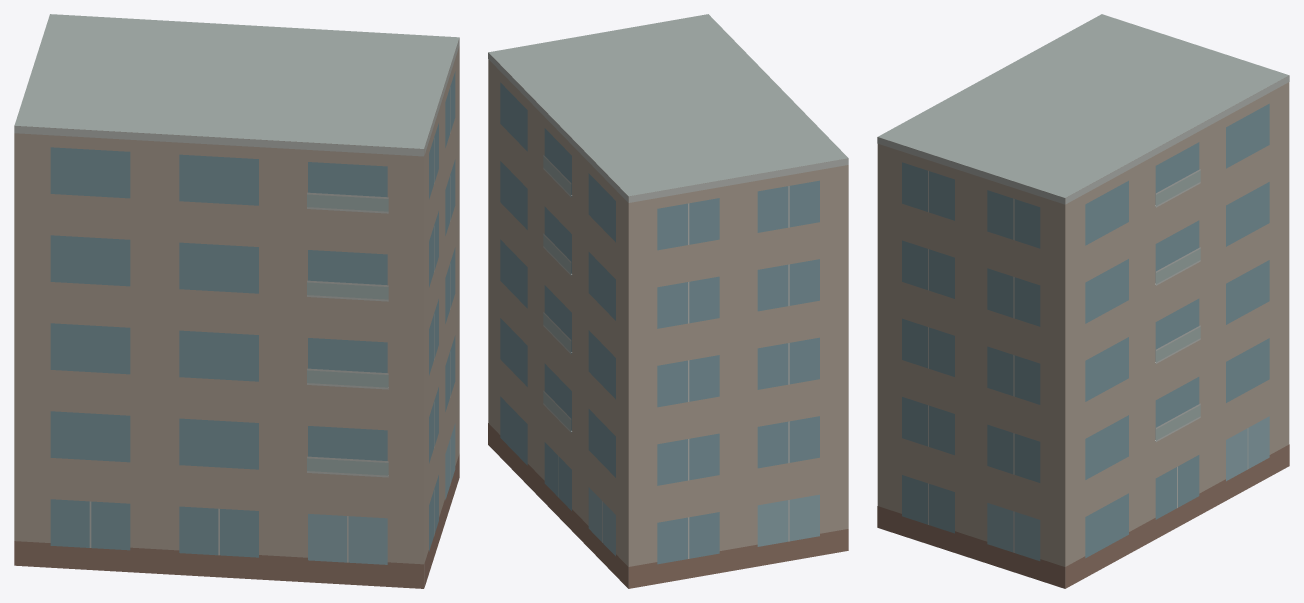
File: survey-upis-32633275.glb
3 views of the same model, side by side, from view 1: azimuth 30°, elevation 25°; view 2: azimuth 150°, elevation 25°; view 3: azimuth 270°, elevation 25° (orthographic). The views are drawn at different scales.
Visible parts, largest first — view 1: survey-upis-32633275.tmp; view 2: survey-upis-32633275.tmp; view 3: survey-upis-32633275.tmp.
Boxes of the visible parts, box(x1,y1,x2,y2) form: survey-upis-32633275.tmp: box(14, 14, 459, 588); survey-upis-32633275.tmp: box(488, 14, 848, 588); survey-upis-32633275.tmp: box(877, 14, 1289, 588).
Bounding box in the file's own units: 14.5 × 14.35 × 13.72.
